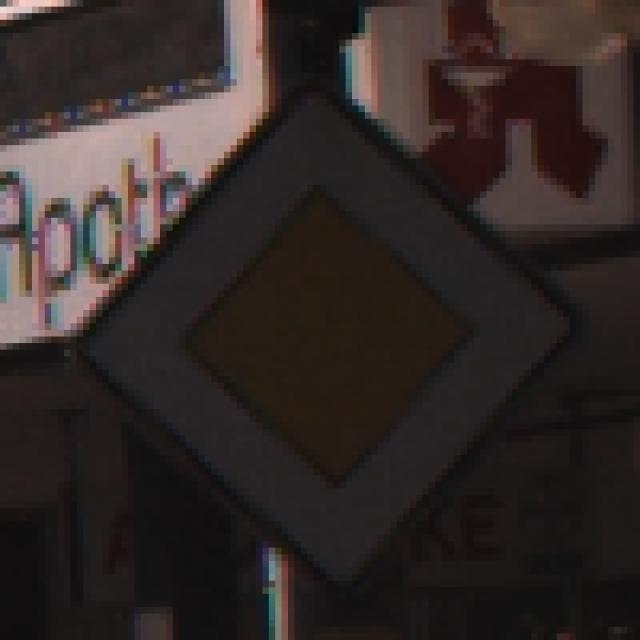Main Road: (59, 61, 590, 589)
